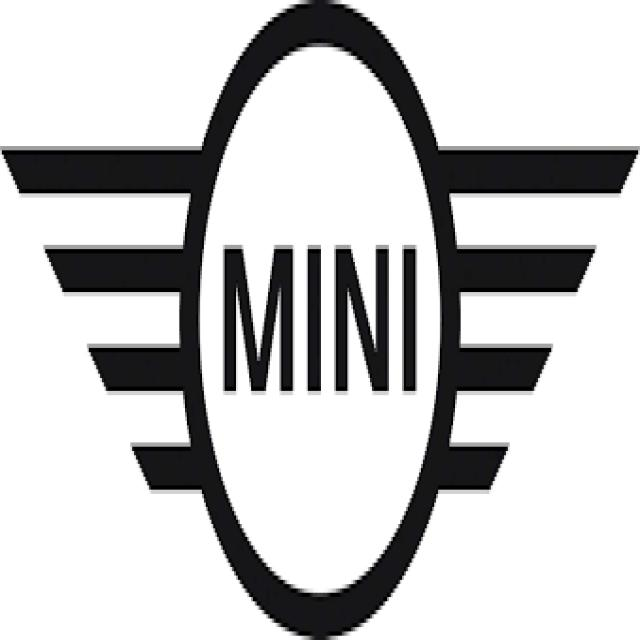mini: (3, 0, 640, 613)
